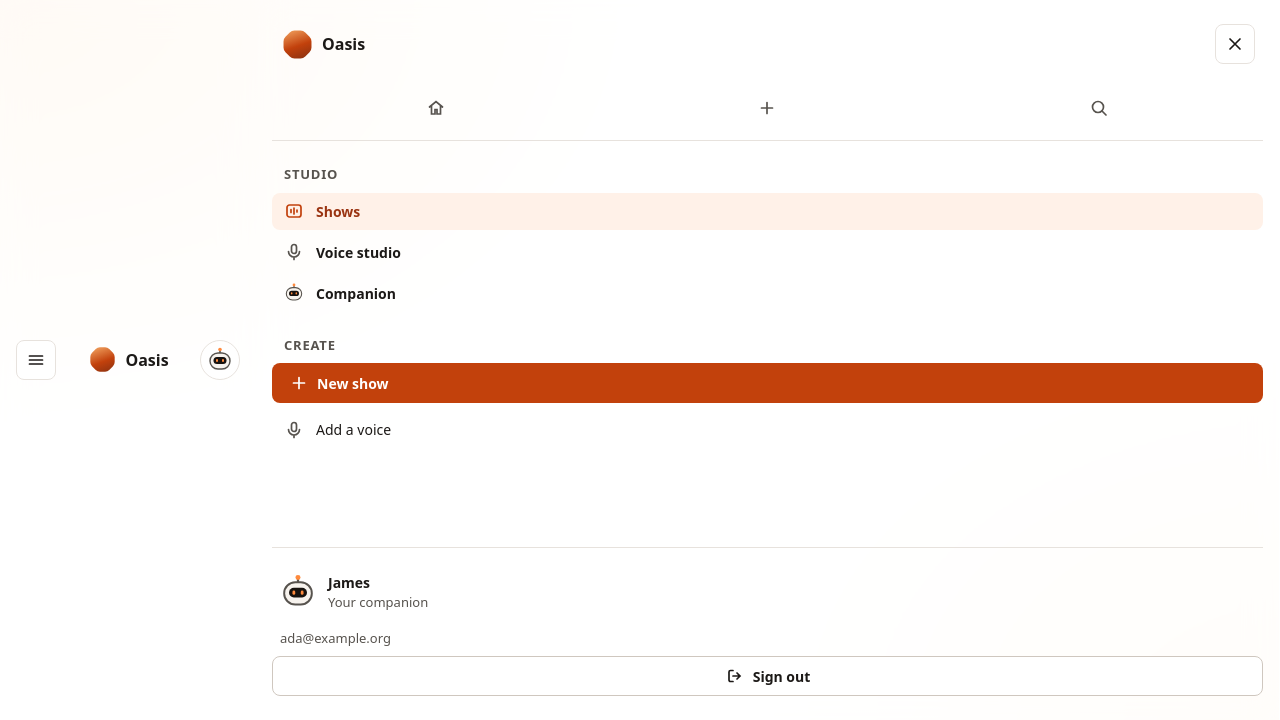
sidebar › is a drawer on narrow screens: opened by the menu button, closed by Escape
This screenshot has width=1280, height=720.
Click the button named "Open the menu" at (36, 360), box [16,340,56,380]
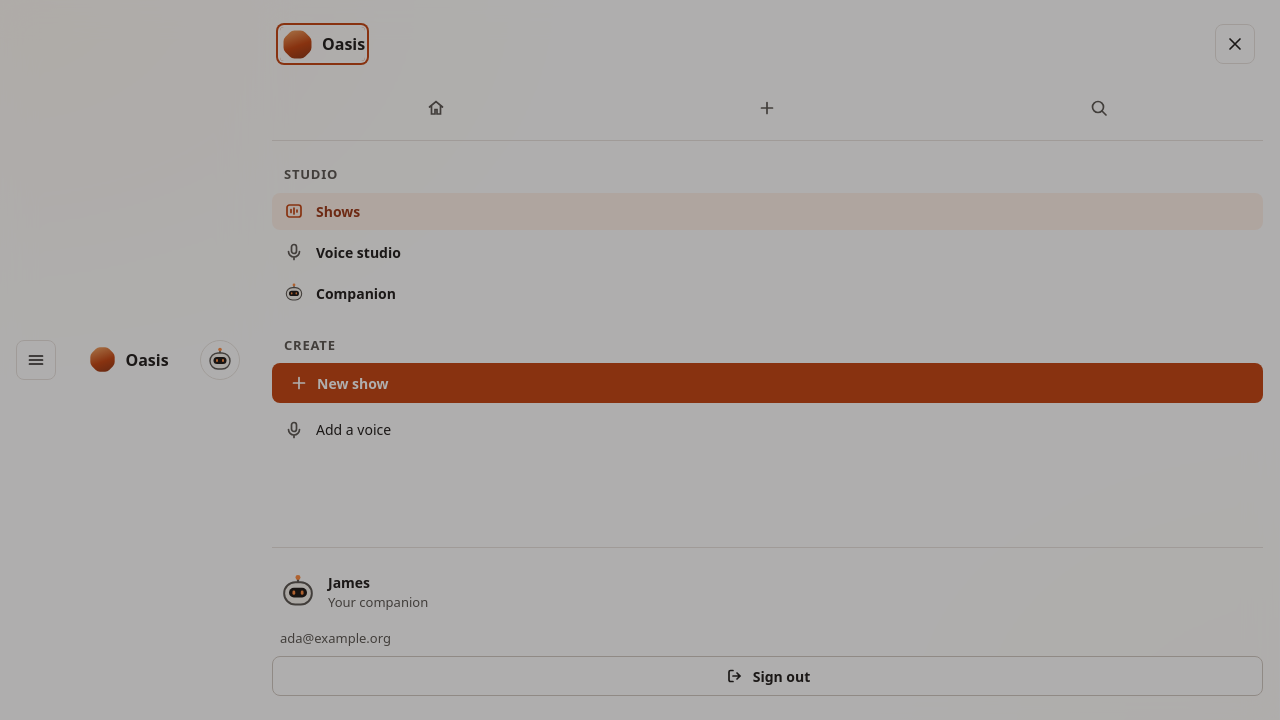
Expected: the button named "Open the menu" is expanded, [16,340,56,380]
Press Escape
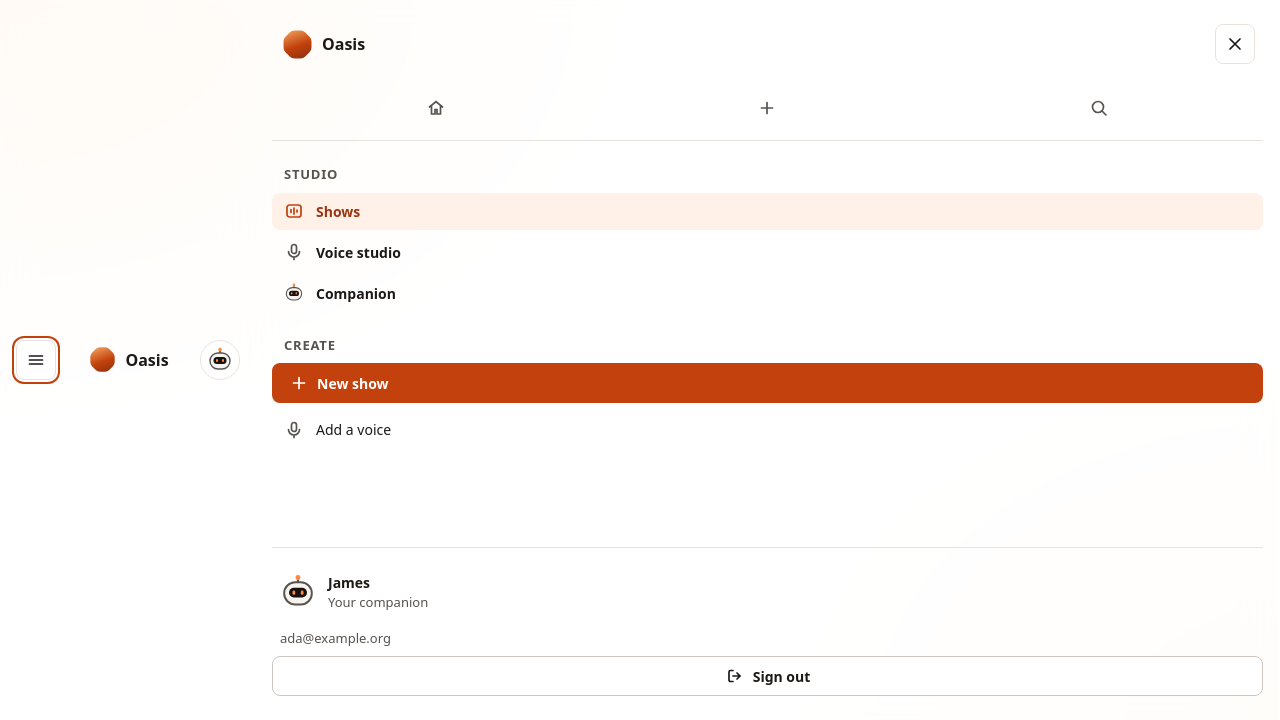
Expected: the element named "Sidebar" has attribute inert
